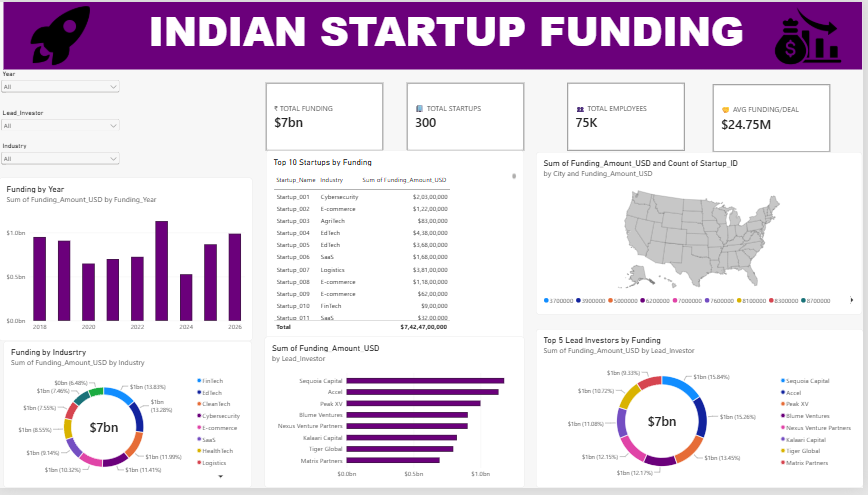

Layout of this report page (visuals, bound fields, positions):
{"tool":"powerbi","page":{"name":"Page 2","canvas":[1920,1080],"ordinal":0},"visuals":[{"type":"textbox","box":[11.3,0,1907.7,150.2],"z":0},{"type":"image","box":[1720.6,0,155.9,150.2],"z":1000},{"type":"image","box":[0,0,272.1,150.2],"z":2000},{"type":"cardVisual","fields":{"Data":["Sum(Indian_Startup_Funding_Dataset.Funding_Amount_USD)"]},"box":[594.5,180,260.8,150.2],"z":3000},{"type":"cardVisual","fields":{"Data":["Count(Indian_Startup_Funding_Dataset.Startup_ID)"]},"box":[907.1,180,260.8,150.2],"z":4000},{"type":"cardVisual","fields":{"Data":["Sum(Indian_Startup_Funding_Dataset.Employees)"]},"box":[1264.8,180,260.8,150.2],"z":5000},{"type":"cardVisual","fields":{"Data":["Avg(Indian_Startup_Funding_Dataset.Funding_Amount_USD)"]},"box":[1586.9,182.4,260.8,150.2],"z":6000},{"type":"columnChart","title":"Funding by Year","fields":{"Category":["Indian_Startup_Funding_Dataset.Funding_Year"],"Y":["Sum(Indian_Startup_Funding_Dataset.Funding_Amount_USD)"]},"box":[0,390.7,563.3,363.4],"z":6001},{"type":"donutChart","title":"Funding by Indusrtry","fields":{"Category":["Indian_Startup_Funding_Dataset.Industry"],"Y":["Sum(Indian_Startup_Funding_Dataset.Funding_Amount_USD)"]},"box":[11.4,754.1,552,326],"z":6002},{"type":"tableEx","title":"Top 10 Startups by Funding","fields":{"Values":["Indian_Startup_Funding_Dataset.Startup_Name","Indian_Startup_Funding_Dataset.Industry","Sum(Indian_Startup_Funding_Dataset.Funding_Amount_USD)"]},"box":[594.5,331.6,573.2,421.6],"z":6003},{"type":"clusteredBarChart","fields":{"Category":["Indian_Startup_Funding_Dataset.Lead_Investor"],"Y":["Sum(Indian_Startup_Funding_Dataset.Funding_Amount_USD)"]},"box":[589.7,743.7,577.9,336.3],"z":6004},{"type":"donutChart","title":"Top 5 Lead Investors by Funding","fields":{"Category":["Indian_Startup_Funding_Dataset.Lead_Investor"],"Y":["Sum(Indian_Startup_Funding_Dataset.Funding_Amount_USD)"]},"box":[1193.7,727.1,727.1,352.9],"z":6005},{"type":"slicer","fields":{"Values":["Indian_Startup_Funding_Dataset.Funding_Year"]},"box":[0,149.9,272.6,86.3],"z":6007},{"type":"slicer","fields":{"Values":["Indian_Startup_Funding_Dataset.Industry"]},"box":[0,311.2,272.6,79.5],"z":6008},{"type":"slicer","fields":{"Values":["Indian_Startup_Funding_Dataset.Lead_Investor"]},"box":[0,236.2,272.6,47.7],"z":6009},{"type":"shapeMap","fields":{"Category":["Indian_Startup_Funding_Dataset.City"],"Series":["Indian_Startup_Funding_Dataset.Funding_Amount_USD"]},"box":[1193.7,331.8,724.7,361.4],"z":6010}]}

Visuals, with their boxes in screenshot pixels (x1, y1, x2, y2), scaled from the page's 1920x1080 canvas onto the 868x495 screenshot:
textbox: <box>5,0,867,69</box>
image: <box>778,0,848,69</box>
image: <box>0,0,123,69</box>
cardVisual - Sum(Indian_Startup_Funding_Dataset.Funding_Amount_USD): <box>269,82,387,151</box>
cardVisual - Count(Indian_Startup_Funding_Dataset.Startup_ID): <box>410,82,528,151</box>
cardVisual - Sum(Indian_Startup_Funding_Dataset.Employees): <box>572,82,690,151</box>
cardVisual - Avg(Indian_Startup_Funding_Dataset.Funding_Amount_USD): <box>717,84,835,152</box>
"Funding by Year" columnChart: <box>0,179,255,346</box>
"Funding by Indusrtry" donutChart: <box>5,346,255,494</box>
"Top 10 Startups by Funding" tableEx: <box>269,152,528,345</box>
clusteredBarChart - Indian_Startup_Funding_Dataset.Lead_Investor x Sum(Indian_Startup_Funding_Dataset.Funding_Amount_USD): <box>267,341,528,494</box>
"Top 5 Lead Investors by Funding" donutChart: <box>540,333,867,494</box>
slicer - Indian_Startup_Funding_Dataset.Funding_Year: <box>0,69,123,108</box>
slicer - Indian_Startup_Funding_Dataset.Industry: <box>0,143,123,179</box>
slicer - Indian_Startup_Funding_Dataset.Lead_Investor: <box>0,108,123,130</box>
shapeMap - Indian_Startup_Funding_Dataset.City x Indian_Startup_Funding_Dataset.Funding_Amount_USD: <box>540,152,867,318</box>
